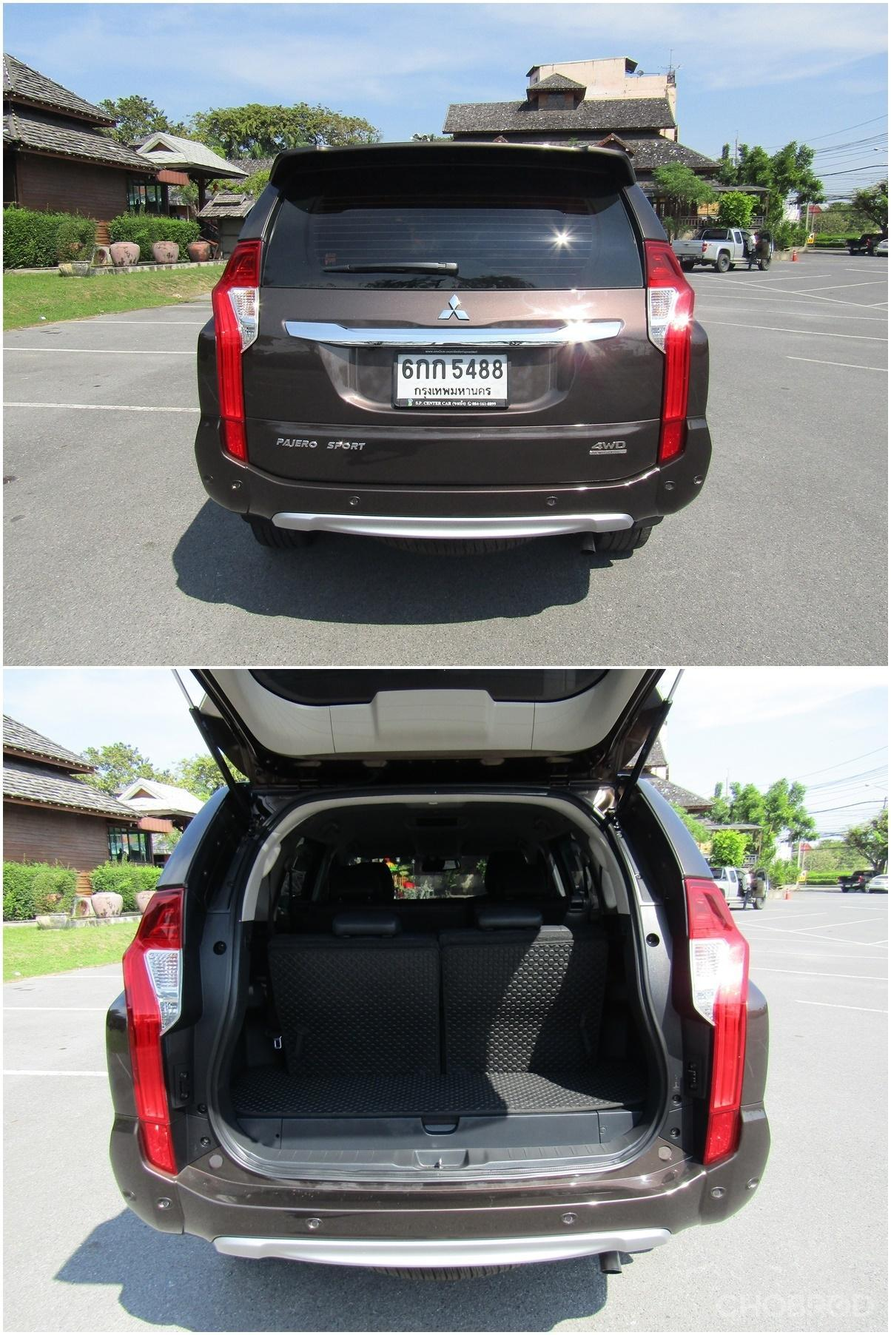license-plate: (397, 347, 510, 411)
